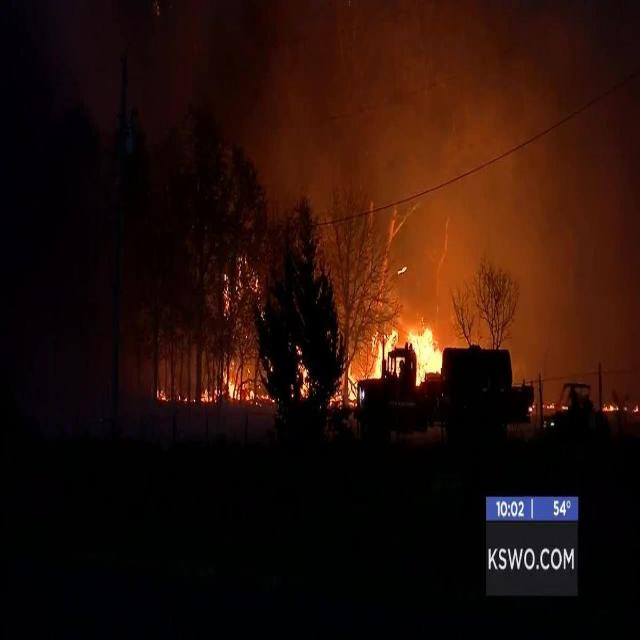Fire: (407, 321, 443, 386), (366, 325, 404, 381), (346, 362, 360, 406), (224, 371, 242, 400), (247, 385, 274, 403), (202, 383, 221, 403), (601, 399, 620, 414), (155, 389, 171, 402), (631, 401, 638, 415), (546, 401, 554, 412)
